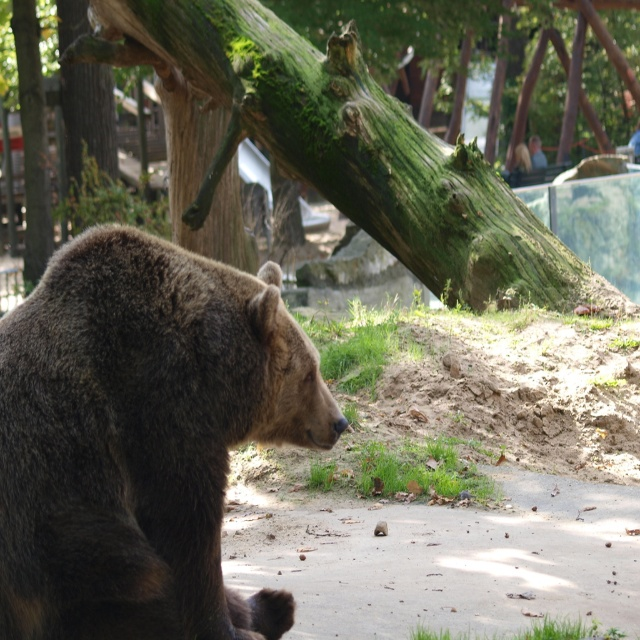Brown bear: (0, 221, 349, 637)
